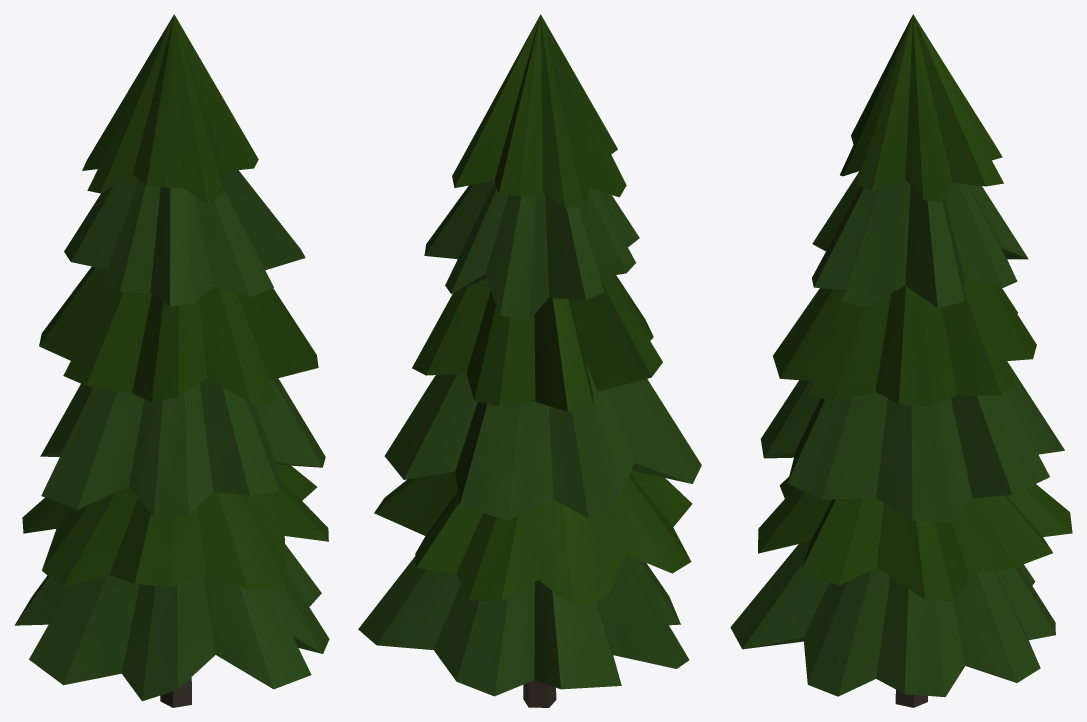
The model's file is Forest_A_FirTree_03.fbx.
3 views of the same model, side by side, from view 1: azimuth 30°, elevation 25°; view 2: azimuth 150°, elevation 25°; view 3: azimuth 270°, elevation 25° (orthographic).
Parts seen in each view (by area): view 1: Forest_A_FirTree_03; view 2: Forest_A_FirTree_03; view 3: Forest_A_FirTree_03.
Part boxes in pixels (box(x1,y1,x2,y2)): Forest_A_FirTree_03: box(14, 14, 329, 707); Forest_A_FirTree_03: box(358, 14, 701, 707); Forest_A_FirTree_03: box(730, 14, 1072, 707).
Size of the model in its own units: 262 by 588 by 266.
